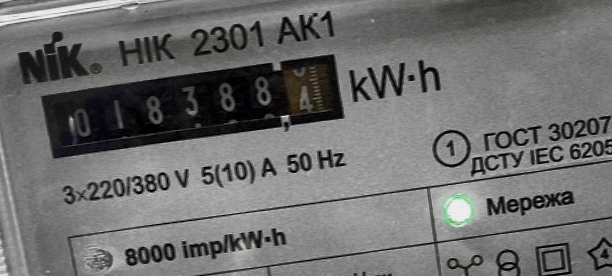0: (70, 101, 94, 139)
1: (107, 92, 129, 130)
3: (179, 80, 203, 118)
4: (293, 78, 317, 114)
8: (250, 69, 276, 108), (142, 88, 167, 126), (215, 77, 239, 114)
screen: (32, 41, 358, 169)
